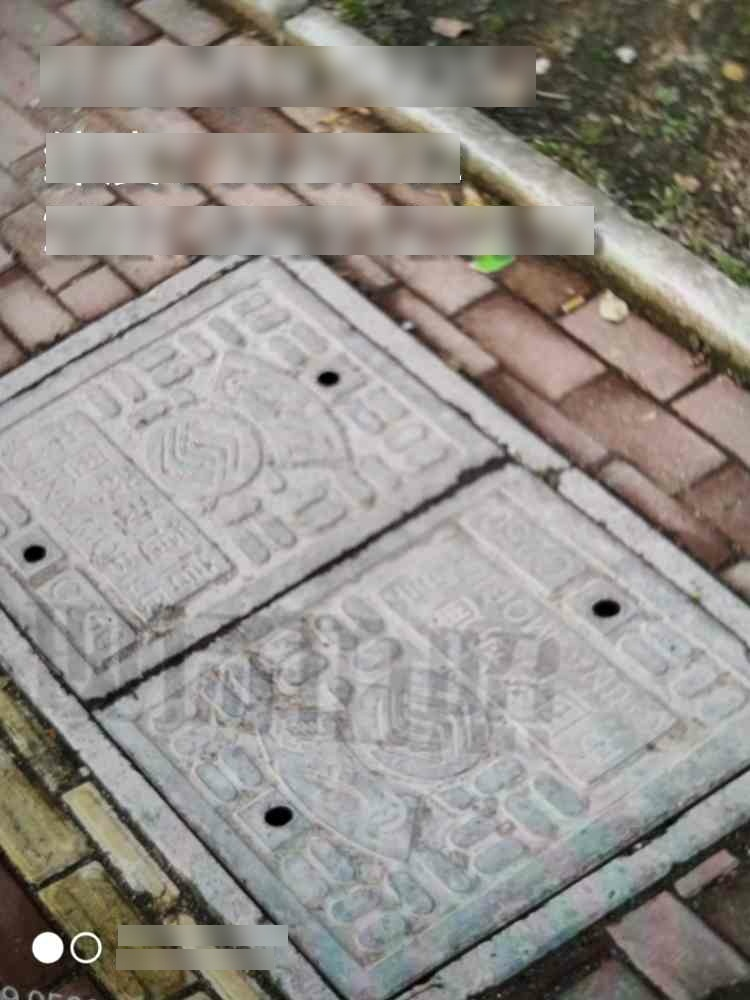good: (3, 228, 750, 1000)
